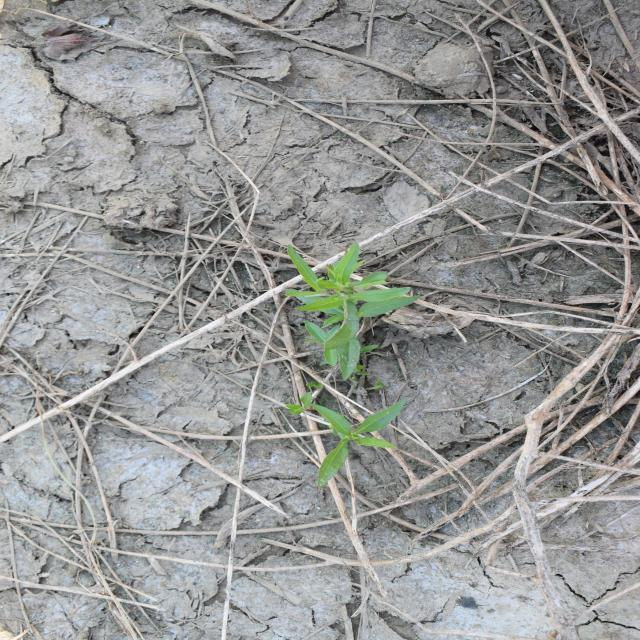Eclipta: (280, 242, 423, 384), (283, 390, 411, 488)
